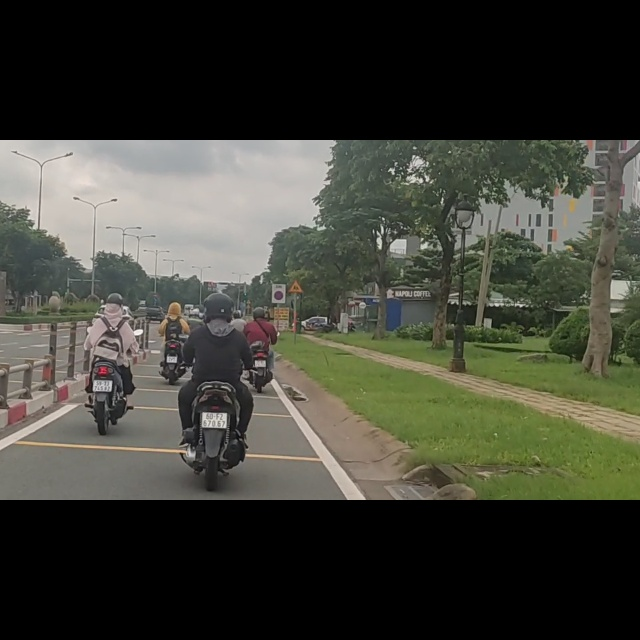bien_nguy_hiem: (288, 249, 304, 274), (274, 268, 284, 284)
